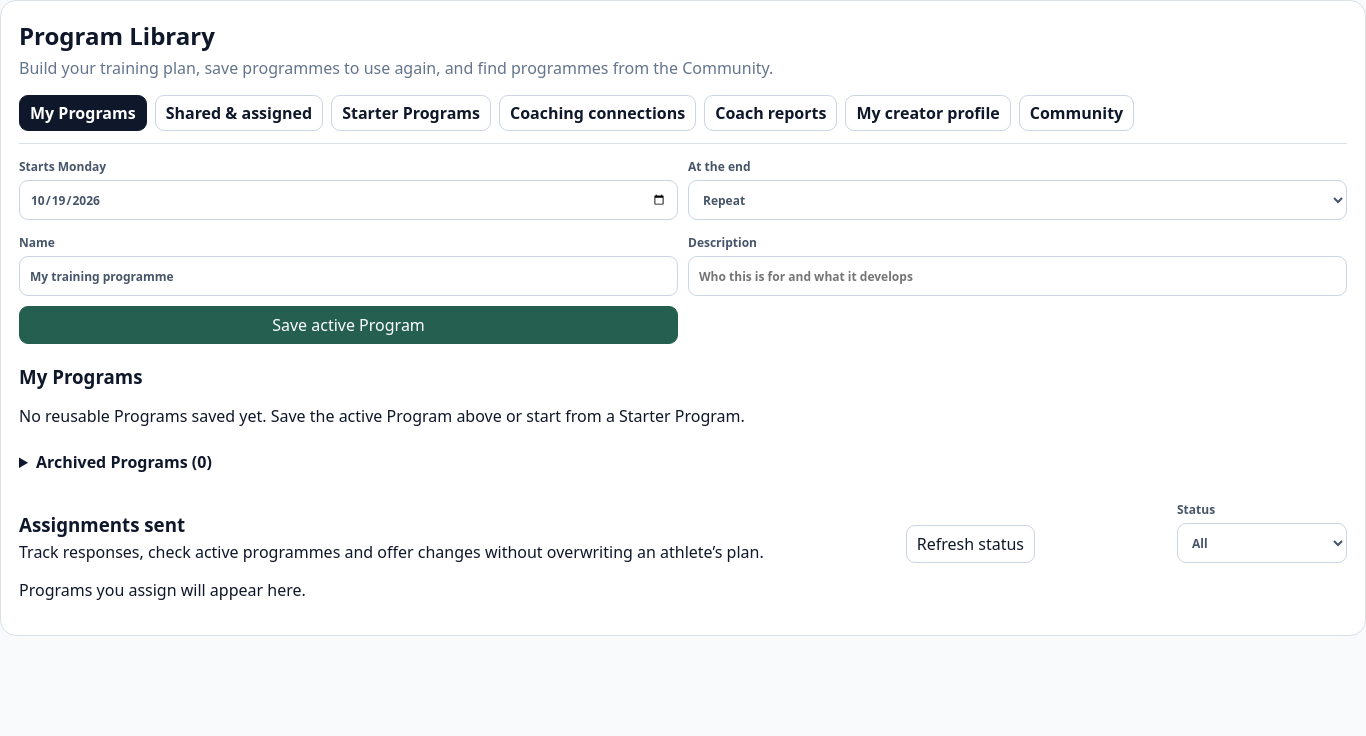
coach/client Program management › limits a profile to one Program alongside its base plan
Click the tab "Shared & assigned": x=239, y=113 [155, 95, 323, 131]
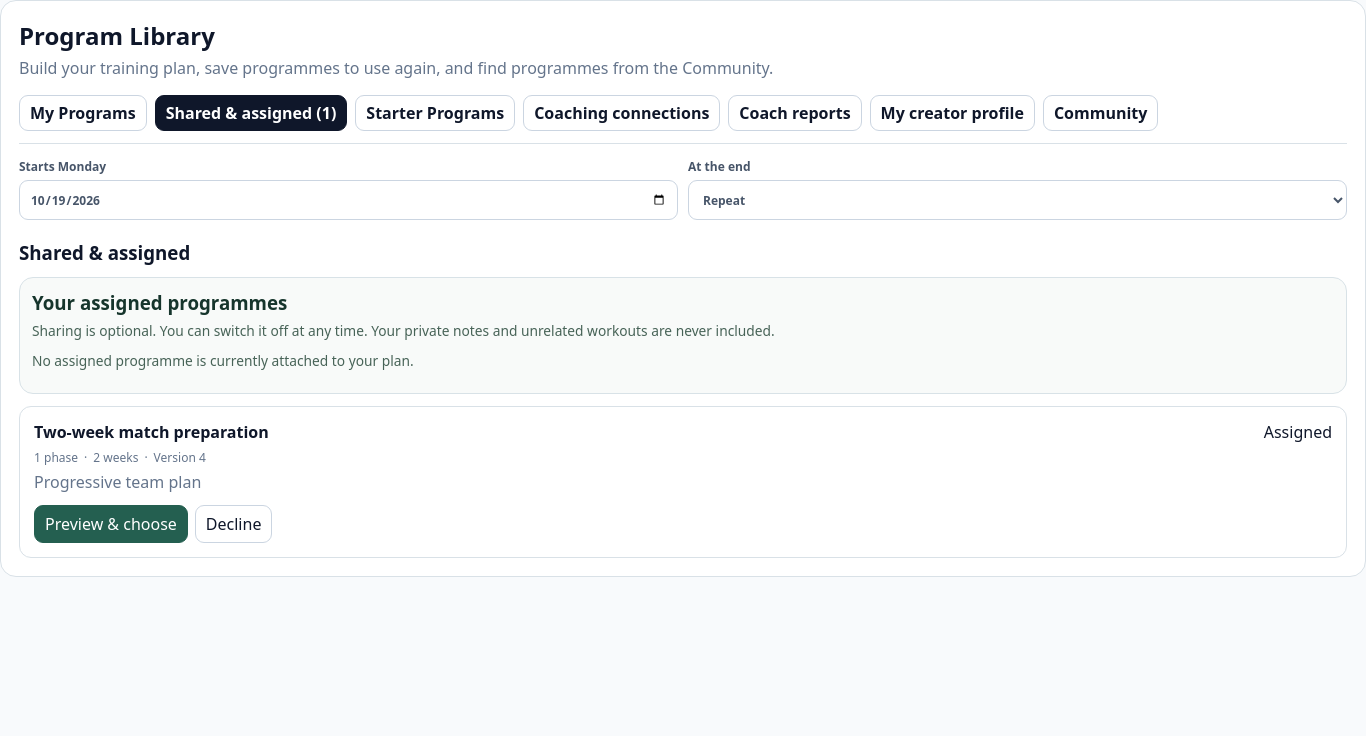
Click the button "Preview & choose": x=111, y=524 [34, 505, 188, 543]
(page scrolled)
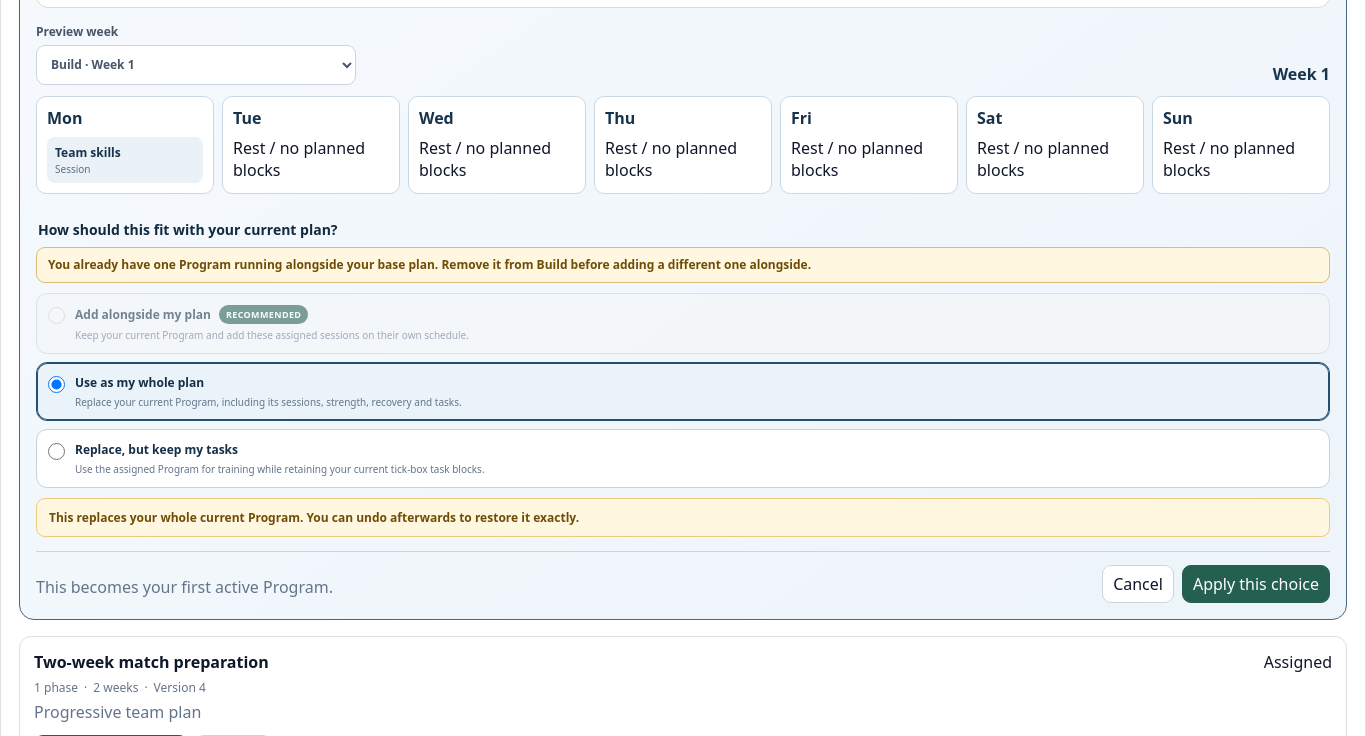
Expected: the text "already have one Program running alongside" is shown, [48, 256, 811, 272]
Expected: the radio button labelled "Use as my whole plan" is checked, [48, 376, 65, 393]
